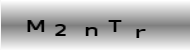2: (53, 23, 66, 36)
M: (25, 18, 45, 33)
T: (107, 19, 122, 32)
n: (84, 26, 98, 37)
r: (134, 27, 146, 39)
